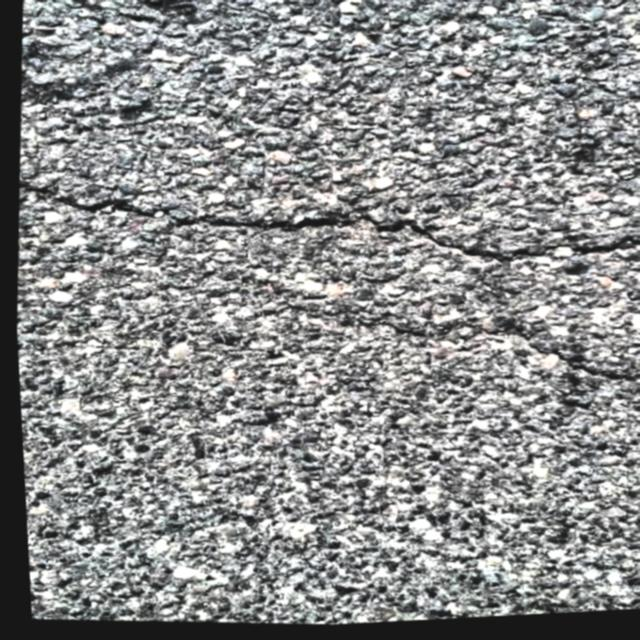cracks: (16, 184, 640, 267)
